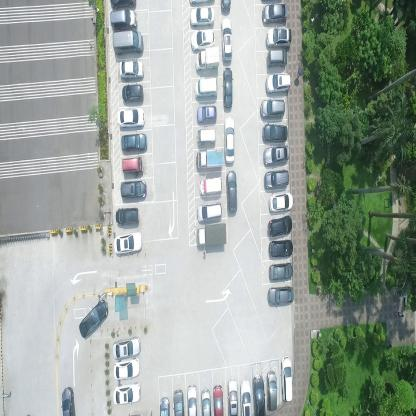car: (78, 298, 109, 339), (196, 222, 227, 247), (113, 230, 142, 256), (113, 31, 142, 56), (112, 336, 141, 361), (113, 380, 141, 405), (113, 357, 141, 381), (195, 48, 220, 74), (280, 354, 293, 402), (262, 144, 289, 167), (116, 108, 145, 129), (268, 215, 293, 239), (195, 149, 222, 171), (265, 72, 291, 94), (259, 98, 285, 120), (260, 4, 286, 26), (265, 29, 291, 51), (197, 201, 223, 223), (111, 11, 137, 33), (267, 284, 293, 306), (193, 78, 218, 100), (224, 116, 235, 166), (267, 190, 292, 212), (190, 30, 216, 51), (253, 373, 266, 415), (190, 7, 214, 29), (268, 261, 292, 283), (263, 168, 288, 189), (121, 134, 147, 154), (261, 125, 288, 144), (119, 181, 146, 200), (198, 178, 222, 199), (120, 62, 145, 82), (221, 18, 232, 63), (115, 206, 139, 226), (266, 370, 278, 410), (226, 171, 237, 214), (269, 239, 293, 258), (121, 157, 144, 176), (61, 386, 76, 415), (240, 380, 252, 416), (265, 49, 286, 69), (122, 86, 144, 104), (223, 67, 232, 110), (186, 384, 198, 416), (228, 378, 238, 415), (197, 106, 217, 124), (213, 383, 224, 415), (173, 387, 185, 415), (200, 387, 212, 415), (197, 129, 216, 146), (110, 0, 137, 9), (159, 395, 170, 415), (220, 1, 231, 13)
